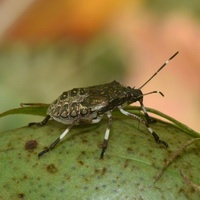insect: (28, 51, 178, 156)
